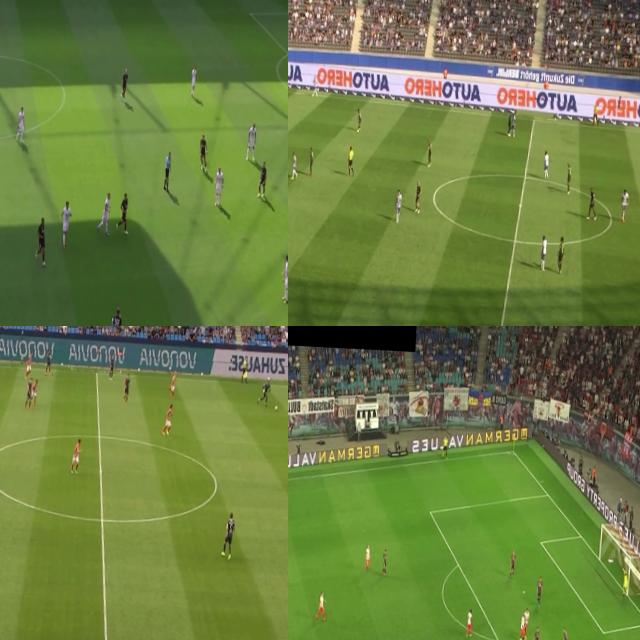ball: (114, 308, 120, 324), (274, 403, 278, 412)
player: (57, 195, 76, 250), (96, 187, 115, 242), (11, 100, 30, 152), (114, 187, 132, 236), (220, 511, 237, 562), (210, 166, 225, 207), (246, 120, 260, 160), (69, 436, 83, 476), (35, 216, 47, 262), (279, 247, 288, 306), (256, 156, 268, 198), (256, 376, 272, 407), (586, 185, 598, 225), (118, 68, 130, 106), (198, 130, 208, 171), (108, 302, 125, 326), (187, 64, 199, 98), (162, 404, 174, 436), (316, 589, 328, 621), (556, 236, 566, 274), (539, 233, 549, 270), (167, 369, 178, 401), (42, 348, 54, 377), (619, 186, 629, 220), (24, 376, 33, 412), (122, 373, 132, 405), (508, 548, 518, 580), (535, 576, 545, 606), (464, 608, 474, 638), (543, 146, 551, 182), (29, 378, 39, 406), (290, 148, 298, 182), (566, 159, 574, 191), (427, 136, 435, 166), (414, 182, 422, 212), (621, 566, 628, 600), (394, 191, 402, 220), (511, 107, 518, 138), (108, 354, 116, 380), (381, 548, 389, 574), (364, 544, 371, 572), (353, 107, 362, 128), (308, 147, 314, 176), (312, 75, 319, 99), (26, 351, 32, 379), (524, 608, 530, 634), (560, 626, 570, 640), (520, 616, 526, 638), (506, 114, 512, 135), (533, 626, 542, 640)
